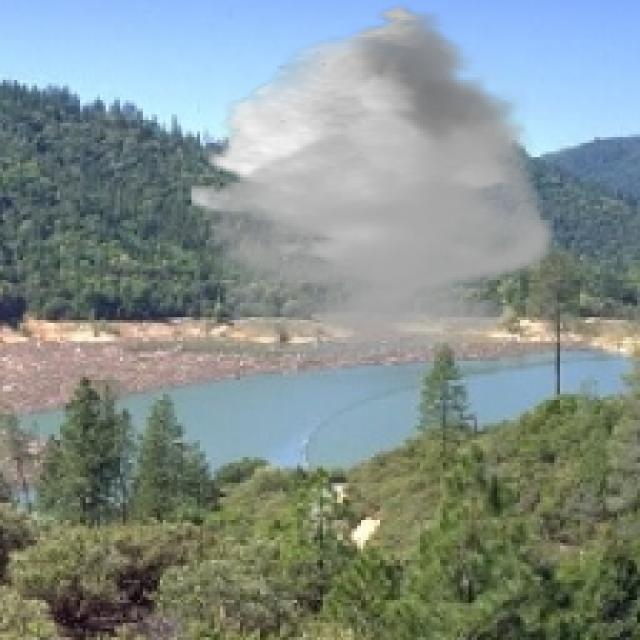smoke: (191, 3, 560, 363)
